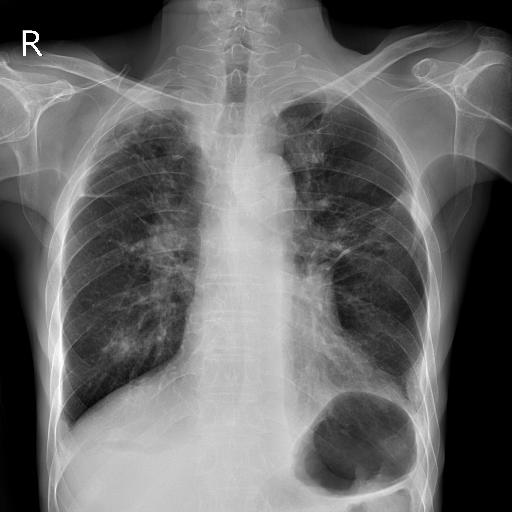Aortic enlargement: (200, 116, 266, 190)
Atelectasis: (38, 46, 136, 134), (247, 64, 317, 88)
Infiltration: (79, 308, 125, 346)
Pleural effusion: (381, 338, 413, 380), (35, 390, 63, 436)
Pleural thickening: (62, 54, 154, 110), (218, 62, 314, 90), (388, 326, 416, 386), (36, 387, 64, 435)
Pulmonary fibrosis: (262, 164, 366, 231), (64, 76, 144, 149), (72, 302, 124, 342), (48, 180, 108, 196)
